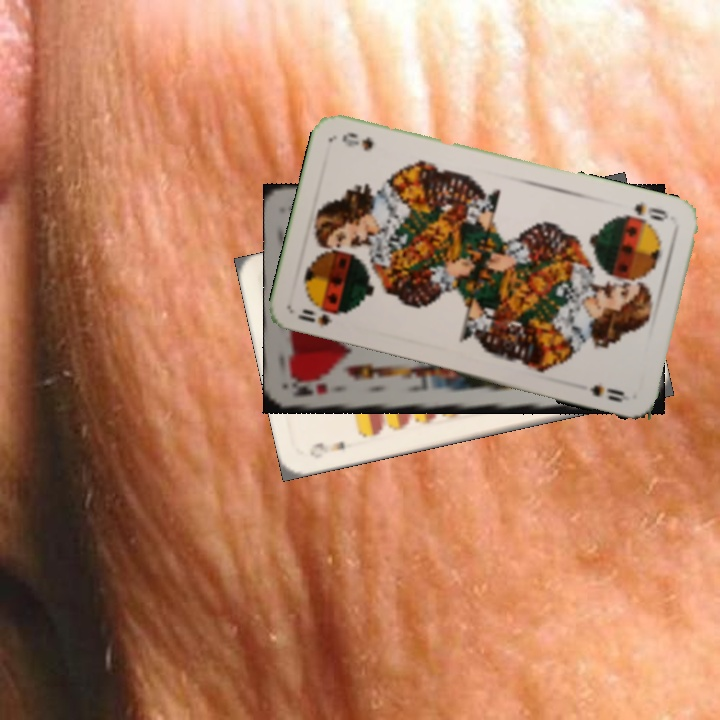E9: (306, 437, 347, 461)
HK: (288, 379, 330, 400)
SO: (619, 198, 671, 224), (294, 305, 343, 329)
